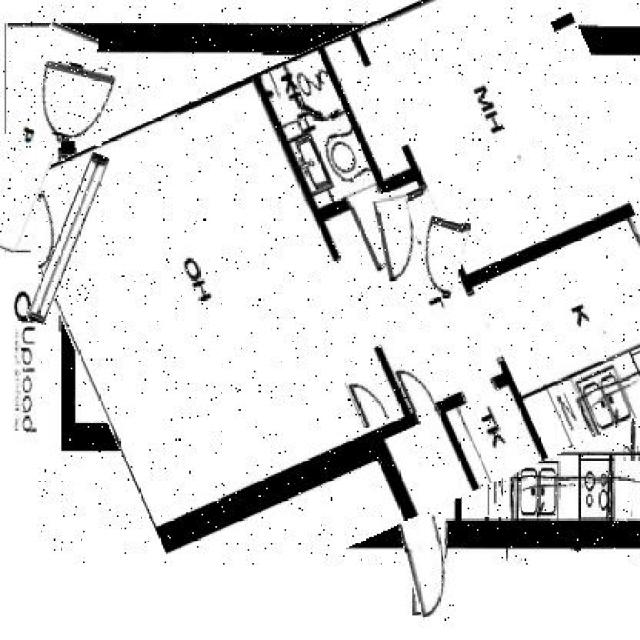door: (34, 62, 114, 142), (404, 515, 454, 623), (377, 191, 420, 289), (416, 215, 466, 297), (349, 372, 386, 426)
window: (43, 151, 92, 326)
zone: (38, 2, 640, 564), (398, 28, 640, 338), (0, 21, 78, 252), (344, 46, 422, 200)
